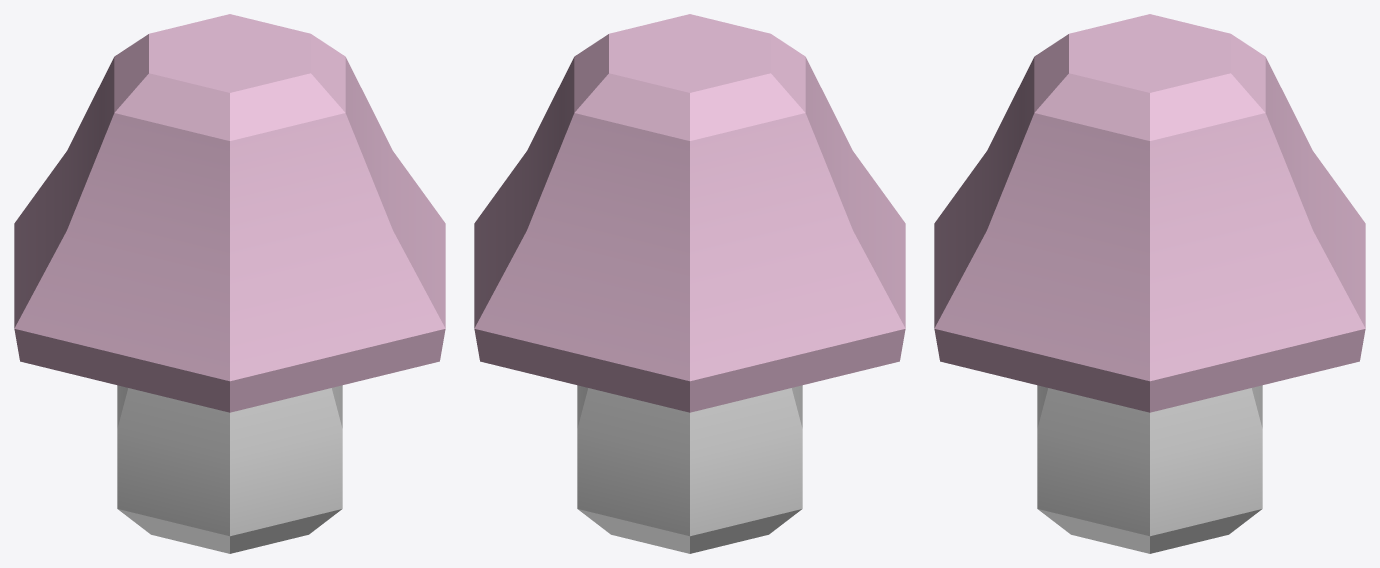
File: mushroom4.fbx
The picture shows the model from 3 angles, left to right: view 1: azimuth 30°, elevation 25°; view 2: azimuth 150°, elevation 25°; view 3: azimuth 270°, elevation 25°; orthographic projection.
Parts seen in each view (by area): view 1: pCylinder33, pCylinder32; view 2: pCylinder33, pCylinder32; view 3: pCylinder33, pCylinder32.
Boxes of the visible parts, x1,y1,x2,y2 form: pCylinder33: (14,14,445,412); pCylinder32: (117,385,342,553); pCylinder33: (474,14,905,412); pCylinder32: (577,385,802,553); pCylinder33: (934,14,1365,412); pCylinder32: (1037,385,1262,553).
Size of the model in its own units: 1.52 by 1.56 by 1.32.
